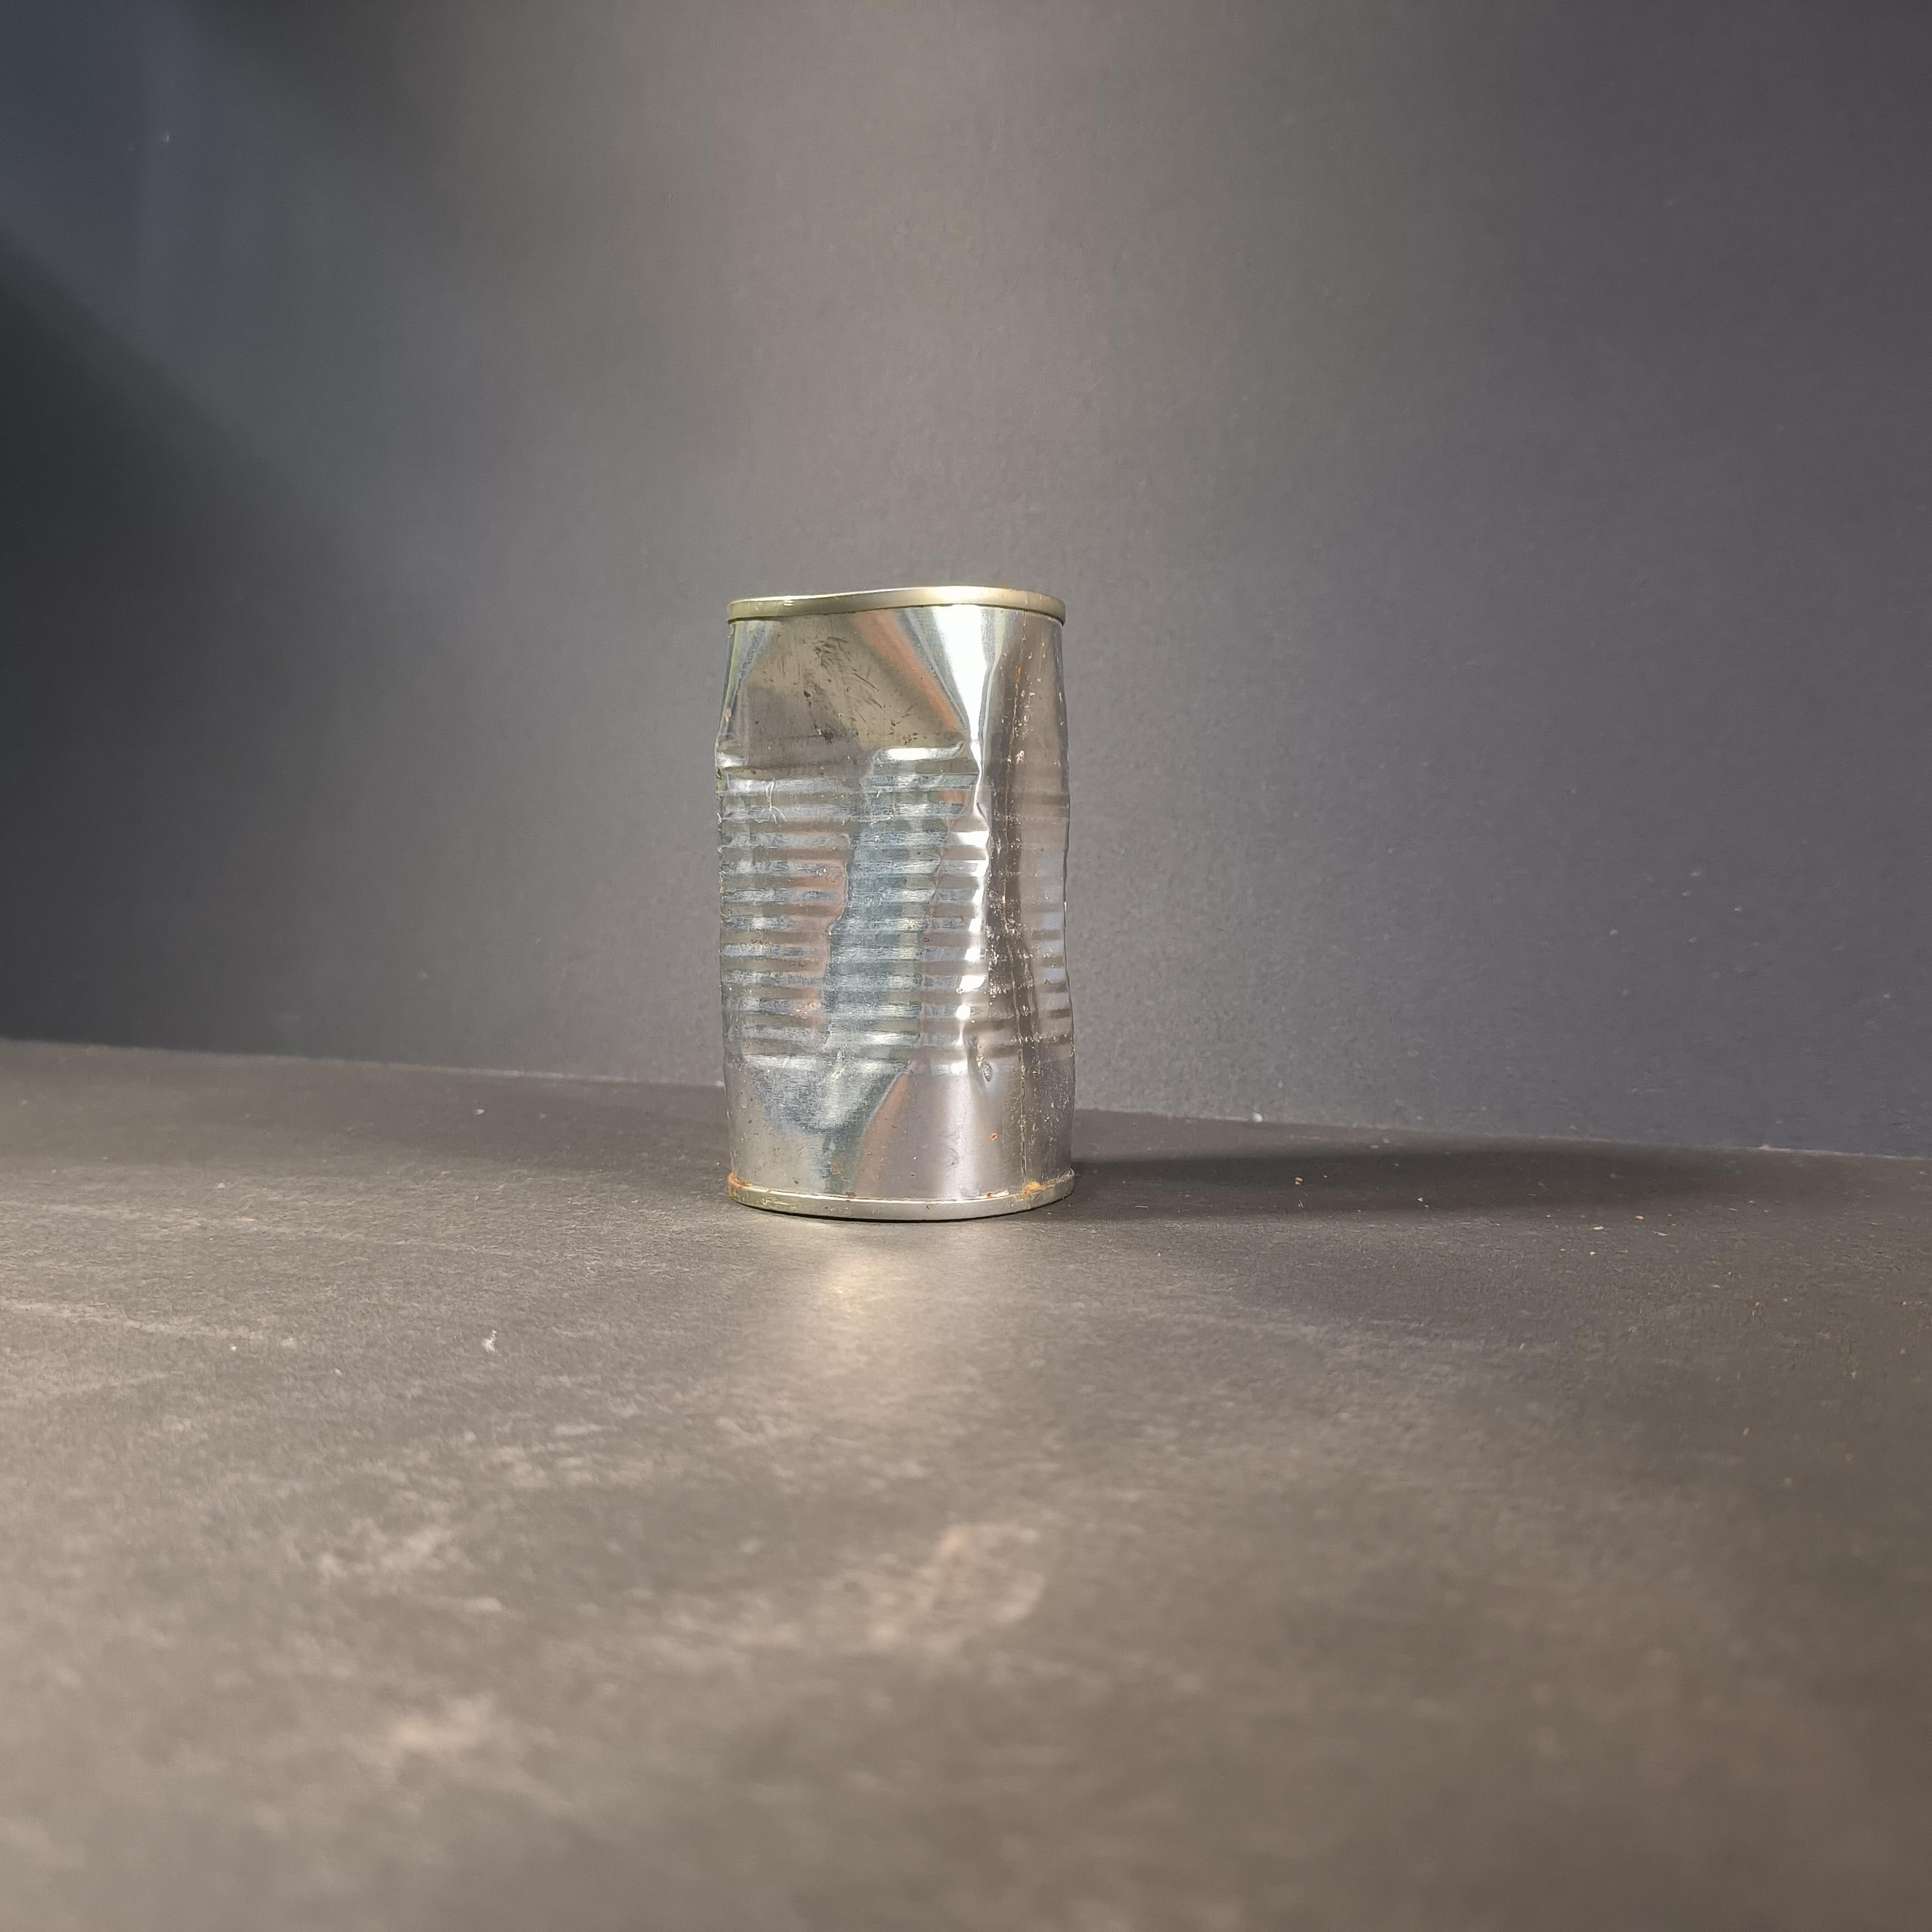Dented: (685, 543, 1085, 1228)
